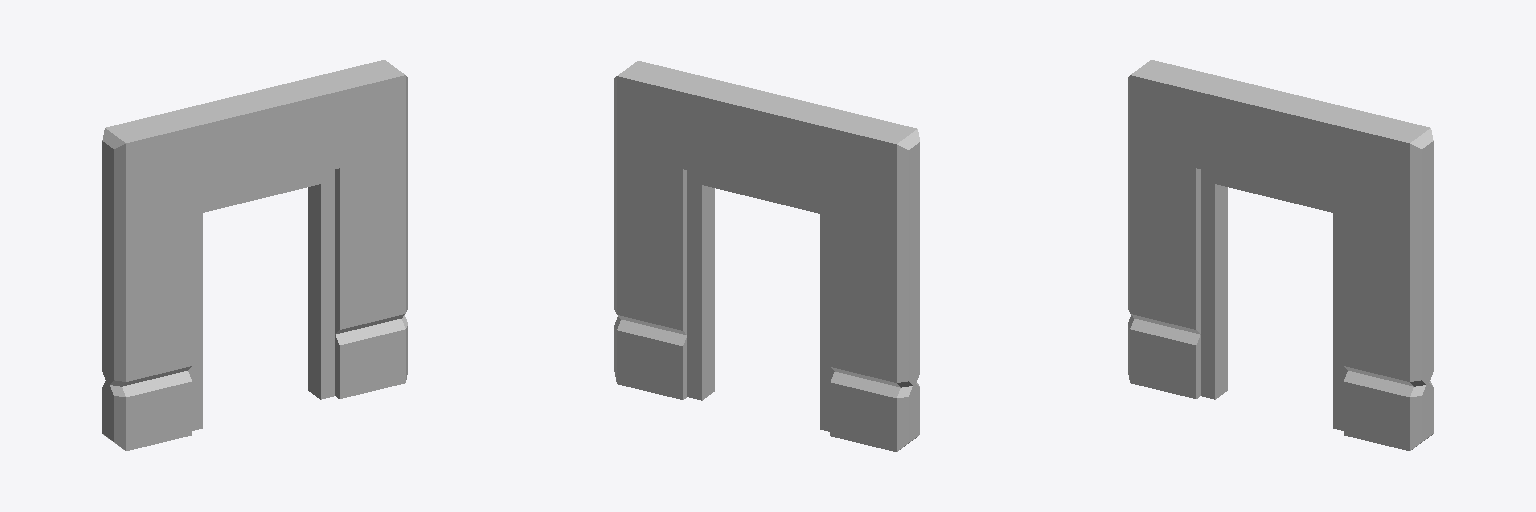
Rendered from Wall_Doorway.obj.
3 renders of one model, left to right at view 1: azimuth 30°, elevation 25°; view 2: azimuth 150°, elevation 25°; view 3: azimuth 330°, elevation 25°, orthographic.
Parts seen in each view (by area): view 1: Wall_Doorway_Cube.16097; view 2: Wall_Doorway_Cube.16097; view 3: Wall_Doorway_Cube.16097.
Boxes of the visible parts, box(x1,y1,x2,y2) form: Wall_Doorway_Cube.16097: box(102, 60, 407, 450); Wall_Doorway_Cube.16097: box(614, 61, 919, 451); Wall_Doorway_Cube.16097: box(1128, 60, 1433, 450).
Bounding box in the file's own units: 4 × 4 × 0.53.